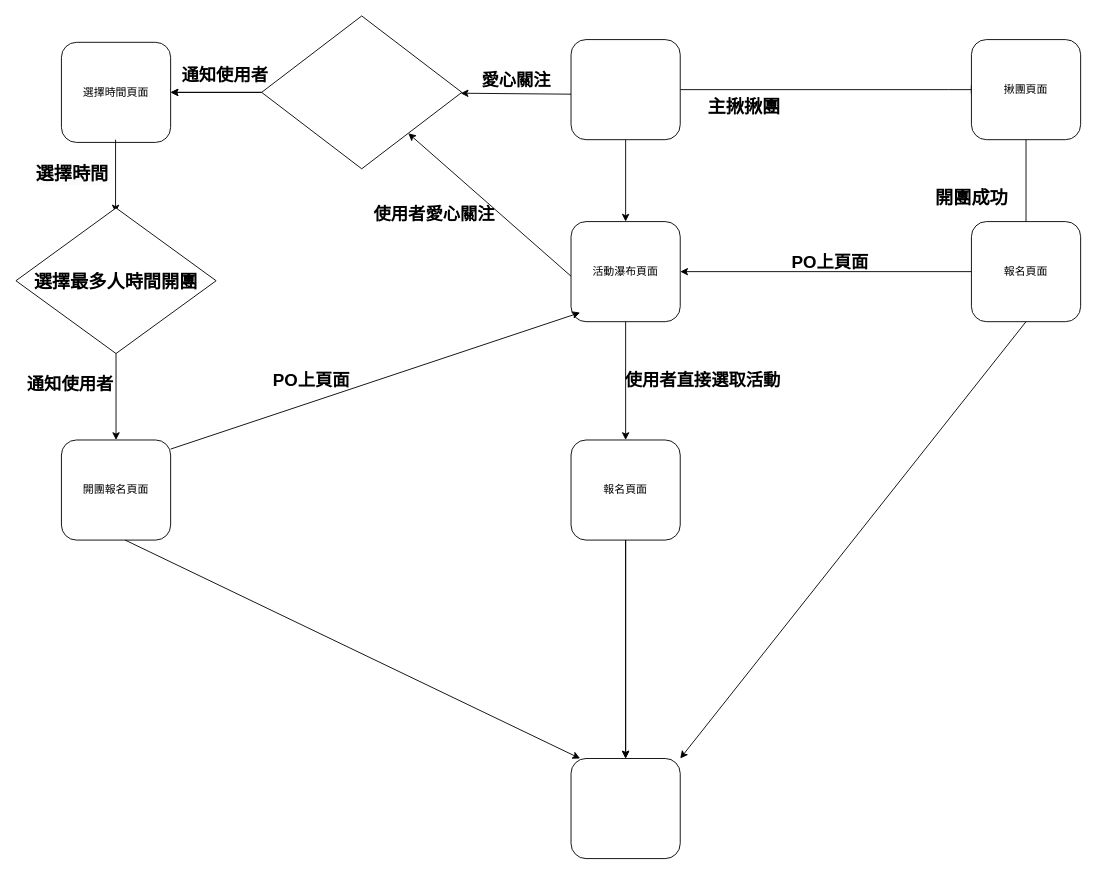
This 1097x875 diagram has some shape labels left out. The centre of each missing label's shape, as x and y in pixels:
判斷愛心人數: [361,92]
額滿: [625,808]
首頁: [625,89]
